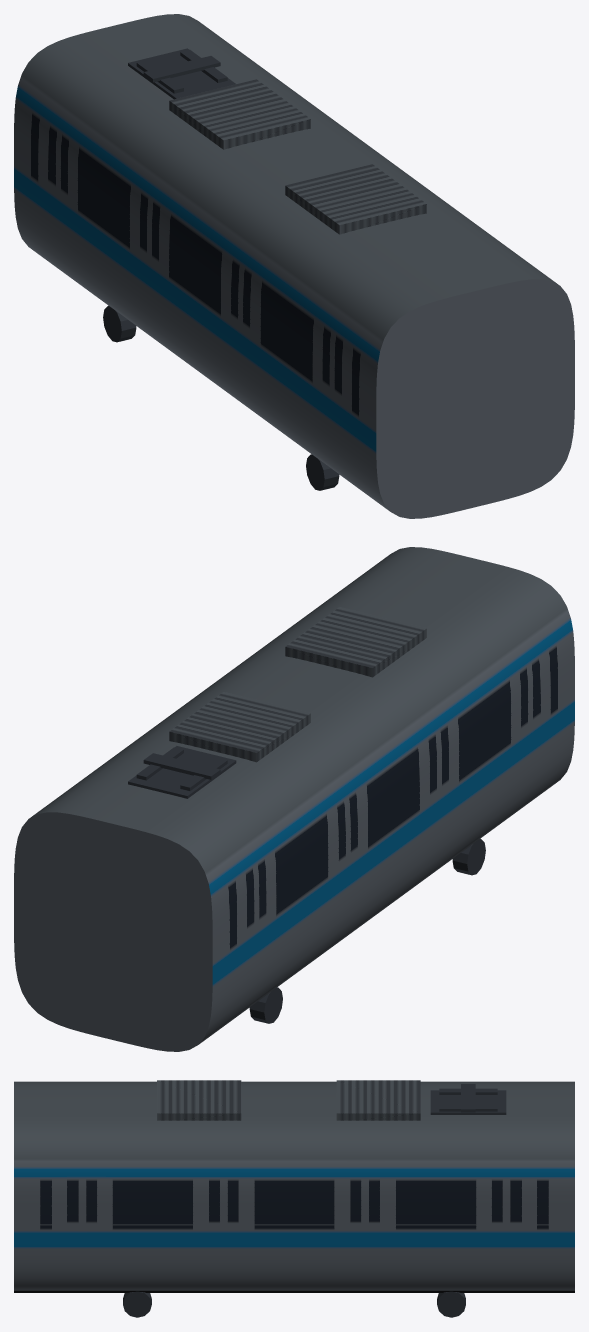
Rendered from Commuter_Cyan_Middle.fbx.
The picture shows the model from 3 angles, top to bottom: view 1: azimuth 30°, elevation 25°; view 2: azimuth 150°, elevation 25°; view 3: azimuth 270°, elevation 25°; orthographic projection. The views are drawn at different scales.
Visible parts, largest first — view 1: Commuter_Cyan_Middle, Commuter_Cyan_Middle_Cap-1, Commuter_Cyan_Middle_Root_AirCon1, Commuter_Cyan_Middle_Root_AirCon0, Commuter_Cyan_Middle_Root_PanBase, Commuter_Cyan_Middle_Root_PanShoe, Commuter_Cyan_Middle_Root_Wheel.001, Commuter_Cyan_Middle_Root_Wheel.003; view 2: Commuter_Cyan_Middle, Commuter_Cyan_Middle_Cap1, Commuter_Cyan_Middle_Root_AirCon0, Commuter_Cyan_Middle_Root_AirCon1, Commuter_Cyan_Middle_Root_PanBase, Commuter_Cyan_Middle_Root_PanShoe, Commuter_Cyan_Middle_Root_Wheel.003, Commuter_Cyan_Middle_Root_Wheel.001; view 3: Commuter_Cyan_Middle, Commuter_Cyan_Middle_Root_AirCon0, Commuter_Cyan_Middle_Root_AirCon1, Commuter_Cyan_Middle_Root_PanBase, Commuter_Cyan_Middle_Root_Wheel.002, Commuter_Cyan_Middle_Root_Wheel, Commuter_Cyan_Middle_Root_PanShoe, Commuter_Cyan_Middle_Root_PanArm1, Commuter_Cyan_Middle_Root_PanArm-1.
Part boxes in pixels (box(x1,y1,x2,y2)): Commuter_Cyan_Middle: box(14, 14, 559, 511); Commuter_Cyan_Middle_Cap-1: box(376, 279, 574, 518); Commuter_Cyan_Middle_Root_AirCon1: box(169, 79, 310, 149); Commuter_Cyan_Middle_Root_AirCon0: box(285, 164, 426, 234); Commuter_Cyan_Middle_Root_PanBase: box(128, 48, 235, 99); Commuter_Cyan_Middle_Root_PanShoe: box(143, 56, 220, 82); Commuter_Cyan_Middle_Root_Wheel.001: box(306, 454, 339, 490); Commuter_Cyan_Middle_Root_Wheel.003: box(103, 305, 136, 342); Commuter_Cyan_Middle: box(29, 547, 574, 1044); Commuter_Cyan_Middle_Cap1: box(14, 812, 212, 1051); Commuter_Cyan_Middle_Root_AirCon0: box(285, 607, 426, 677); Commuter_Cyan_Middle_Root_AirCon1: box(169, 692, 310, 762); Commuter_Cyan_Middle_Root_PanBase: box(128, 746, 236, 798); Commuter_Cyan_Middle_Root_PanShoe: box(143, 753, 220, 779); Commuter_Cyan_Middle_Root_Wheel.003: box(249, 987, 282, 1023); Commuter_Cyan_Middle_Root_Wheel.001: box(452, 838, 485, 875); Commuter_Cyan_Middle: box(14, 1081, 574, 1292); Commuter_Cyan_Middle_Root_AirCon0: box(157, 1080, 241, 1120); Commuter_Cyan_Middle_Root_AirCon1: box(336, 1080, 420, 1120); Commuter_Cyan_Middle_Root_PanBase: box(430, 1090, 506, 1114); Commuter_Cyan_Middle_Root_Wheel.002: box(123, 1291, 151, 1317); Commuter_Cyan_Middle_Root_Wheel: box(437, 1291, 465, 1317); Commuter_Cyan_Middle_Root_PanShoe: box(461, 1084, 475, 1112); Commuter_Cyan_Middle_Root_PanArm1: box(439, 1105, 497, 1111); Commuter_Cyan_Middle_Root_PanArm-1: box(439, 1088, 497, 1094).
Bounding box in the file's own units: 106 × 125 × 333.
2 materials, 1 textured.
